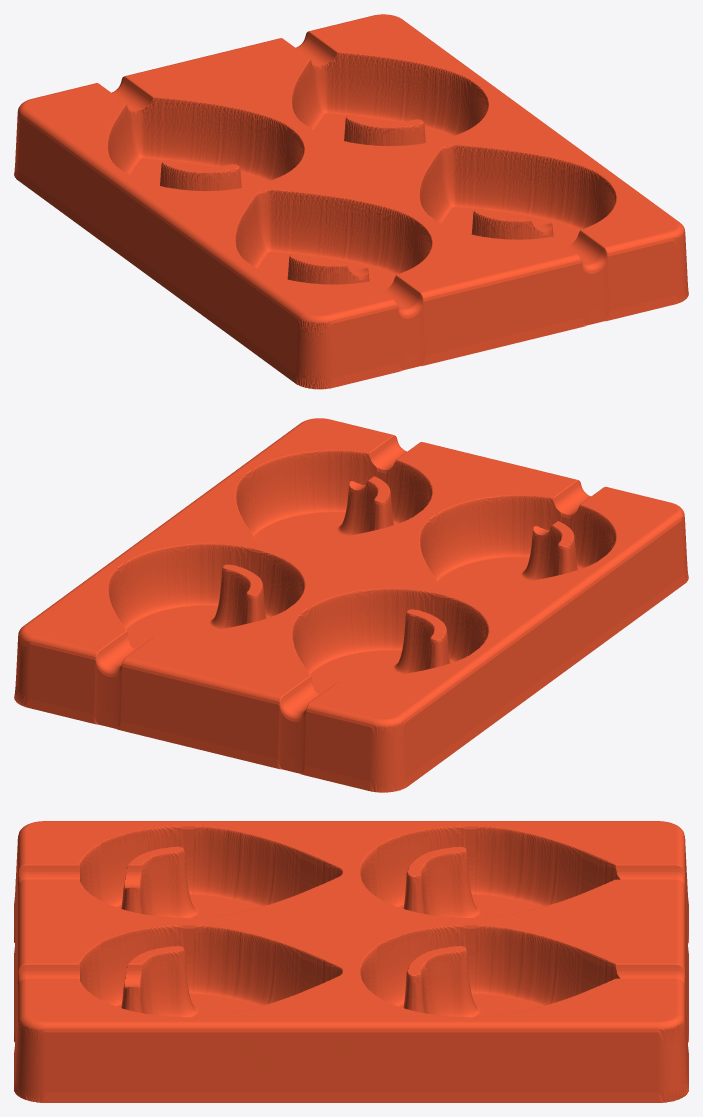
The model's file is mold.glb.
3 renders of one model, top to bottom at view 1: azimuth 30°, elevation 25°; view 2: azimuth 150°, elevation 25°; view 3: azimuth 270°, elevation 25°, orthographic. The views are drawn at different scales.
Parts seen in each view (by area): view 1: geometry_0; view 2: geometry_0; view 3: geometry_0.
Part boxes in pixels (box(x1,y1,x2,y2)): geometry_0: box(14, 14, 688, 389); geometry_0: box(14, 418, 688, 792); geometry_0: box(14, 821, 688, 1102).
Bounding box in the file's own units: 0.145 × 0.0245 × 0.1968.
